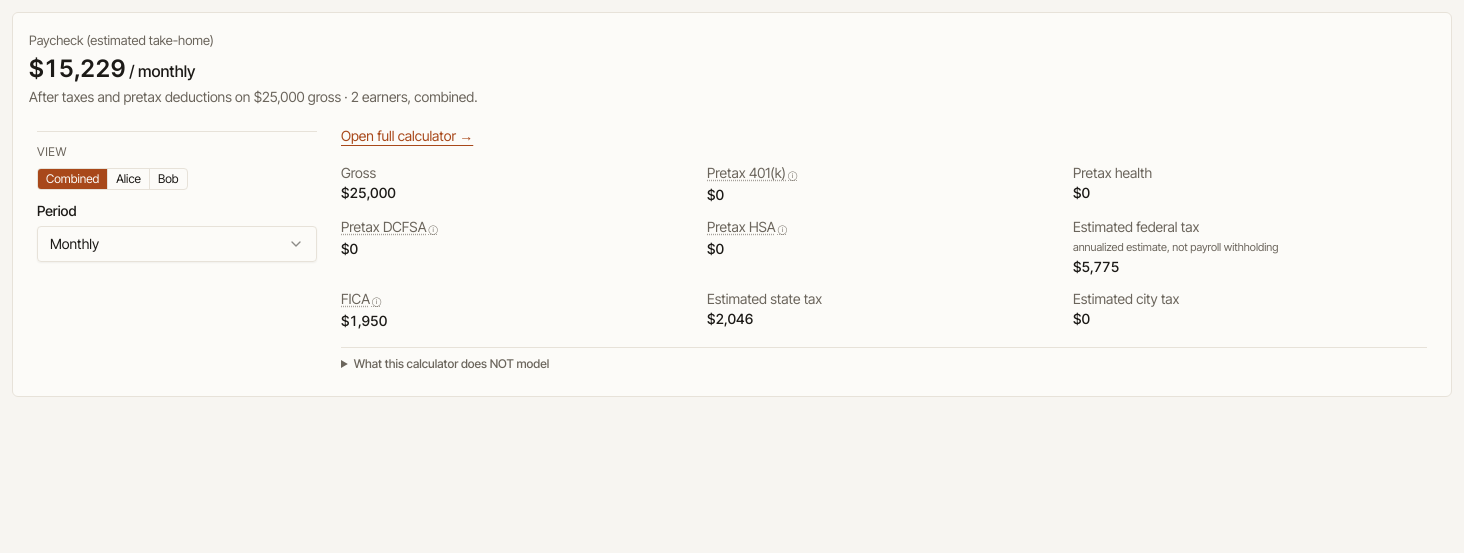
Scenario: PaycheckCard Combined | per-person view (Wave 18 D16) › per-person view shows the person's own gross and the engine's marginal per-earner FICA
Expected: the element with test id "paycheck-takehome" is shown, x1=29 y1=54 x2=196 y2=82
Click the dropdown named "period". click: click(75, 243)
box: x1=37 y1=226 x2=317 y2=262
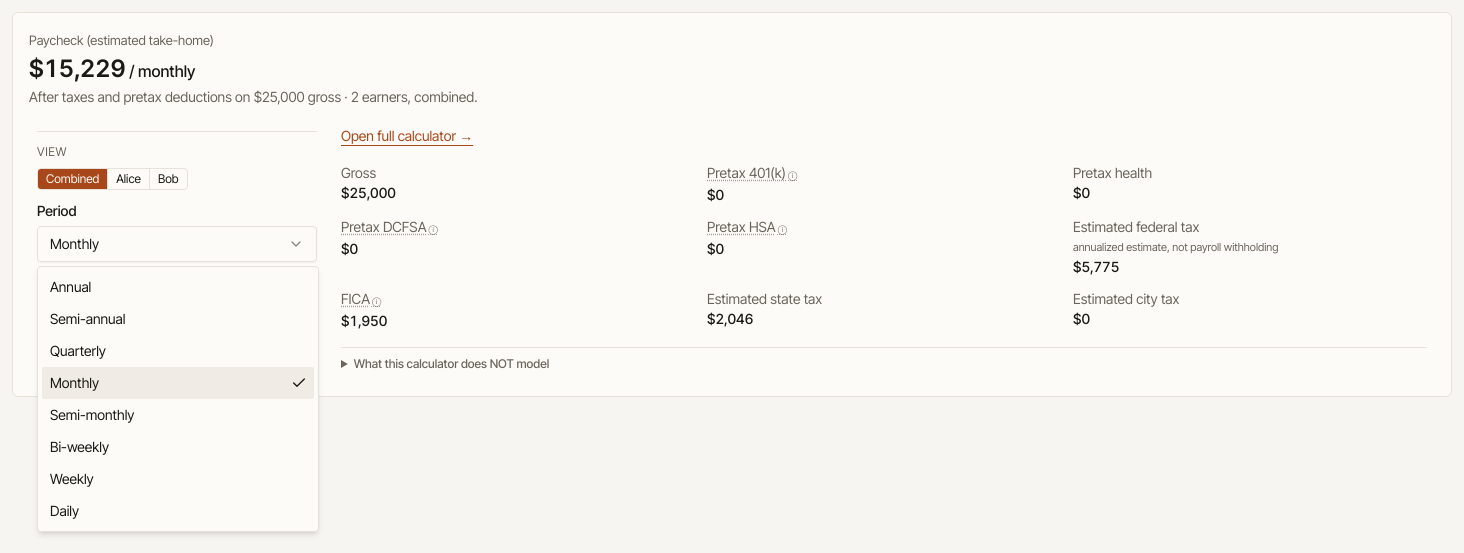
Click the option "Annual". click: click(71, 286)
box: x1=50 y1=278 x2=91 y2=295
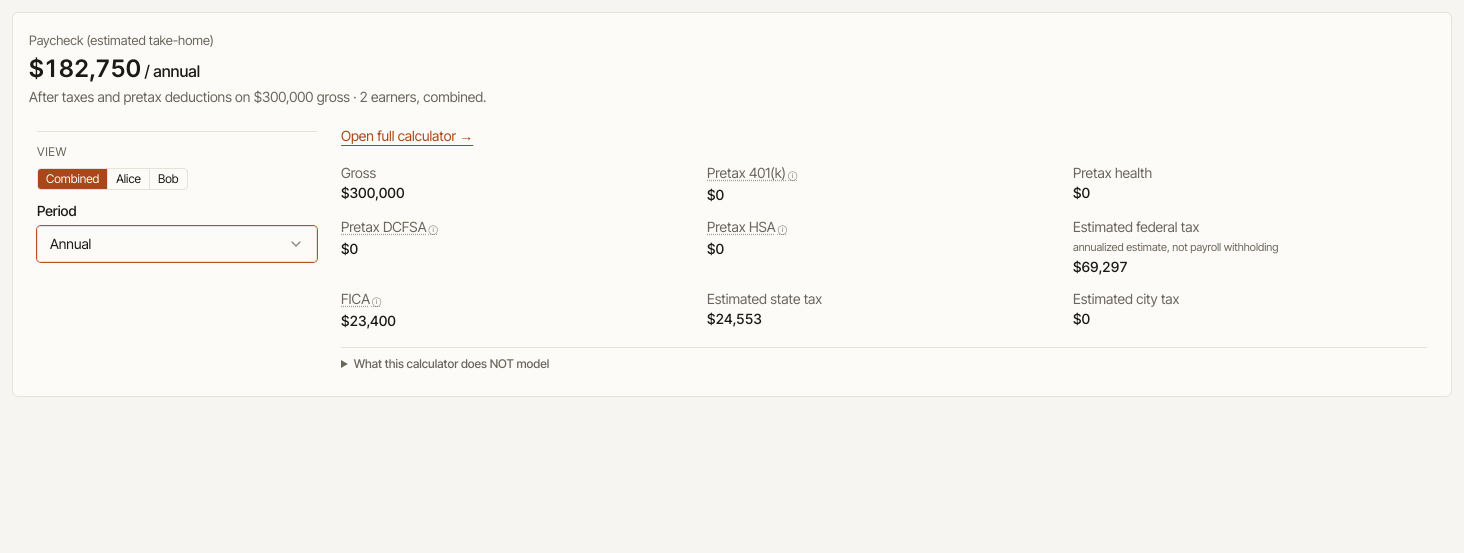
Click the button "Bob". click: click(168, 178)
box: x1=149 y1=168 x2=187 y2=188
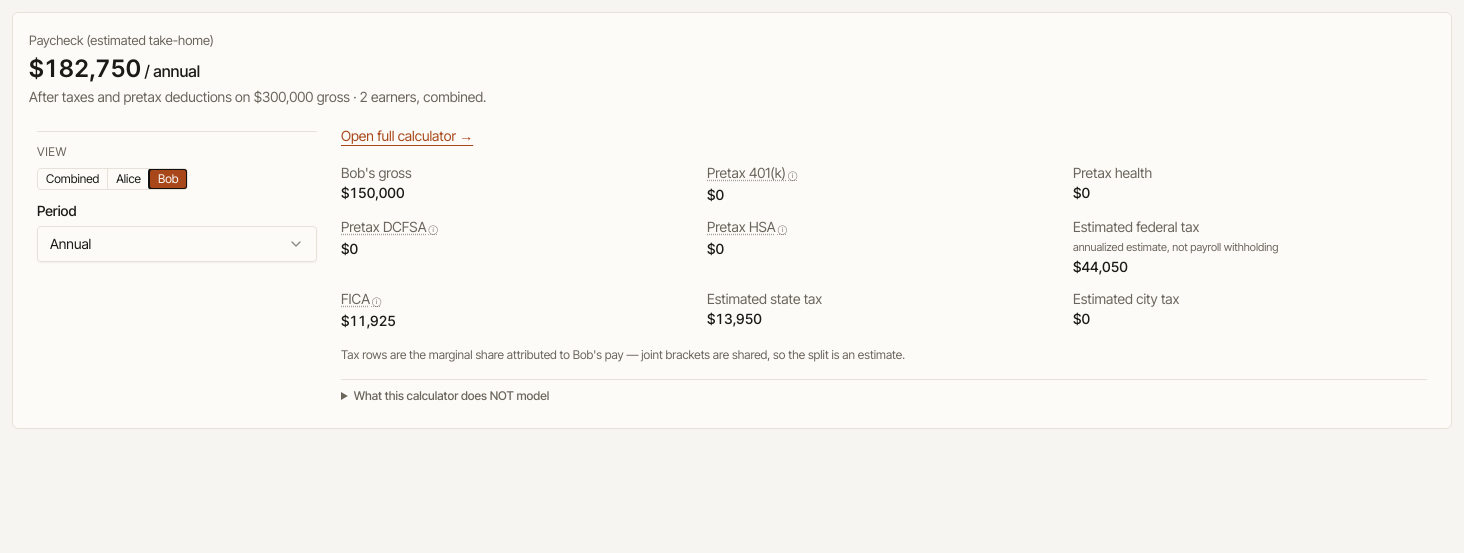
Expected: the text "$150,000" is shown, x1=341 y1=184 x2=405 y2=200
Expected: the text "$11,925" is shown, x1=341 y1=312 x2=396 y2=328
Expected: the text "marginal share attributed to Bob's pay" is shown, x1=341 y1=346 x2=905 y2=362
